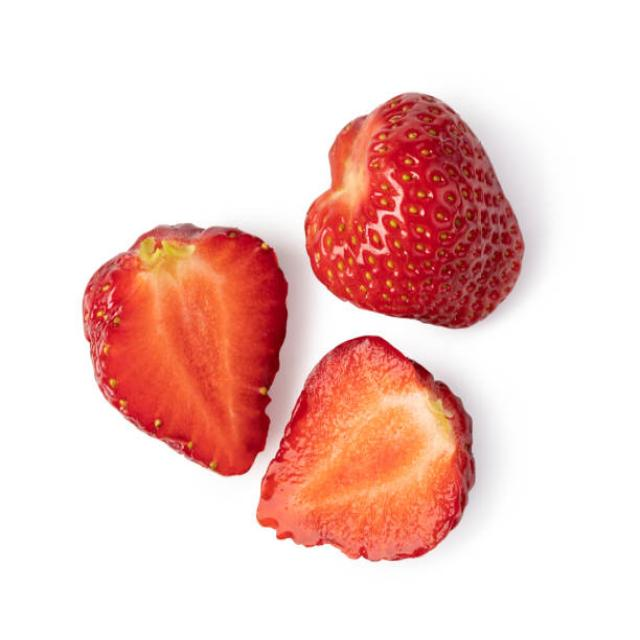Healthy Fruit: (304, 91, 524, 329), (83, 223, 286, 478), (253, 339, 475, 565)
